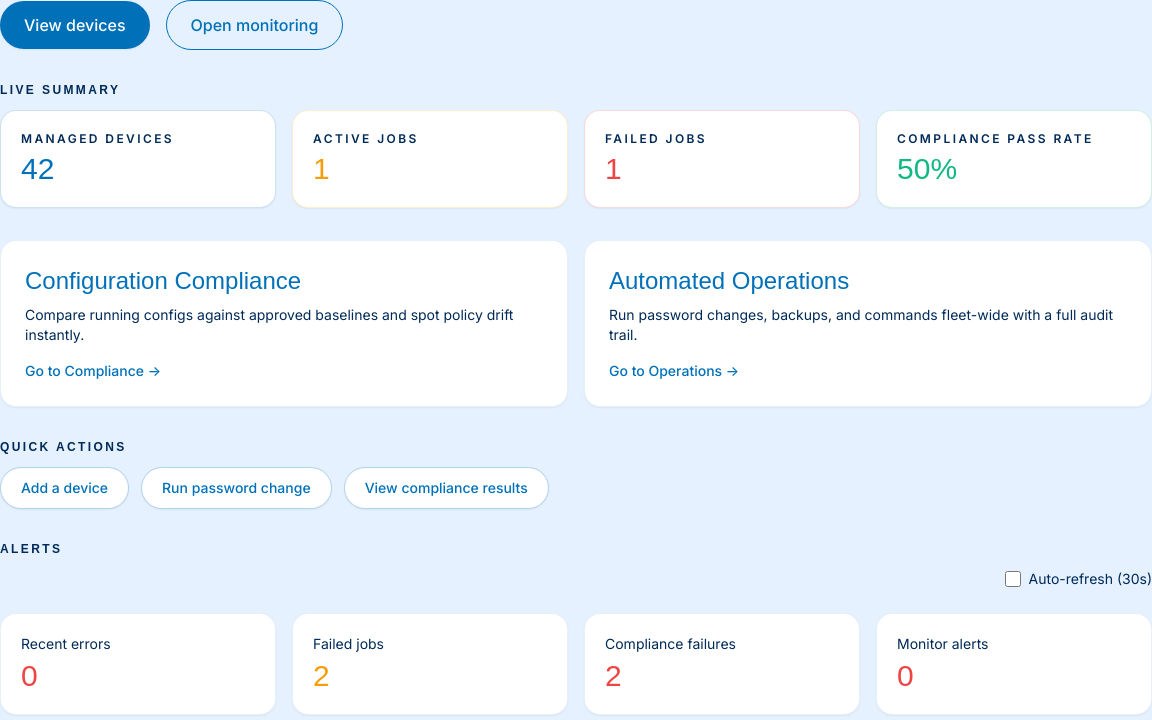
Test: Home dashboard › opens a failed-jobs context modal linking to Runs
Click the button "Failed jobs 1" at (656, 138), box [584,110,860,208]
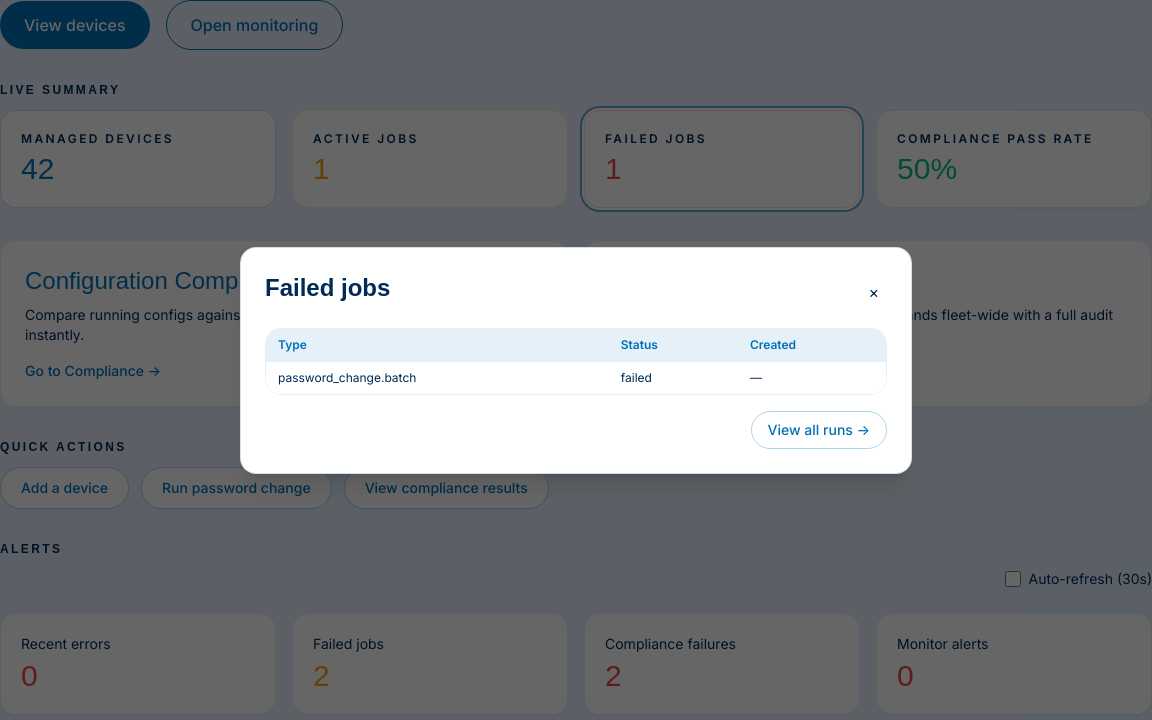
Now the heading "Failed jobs" is shown, box [265,272,390,304]
Now the text "password_change.batch" is shown, box [266,361,609,394]
